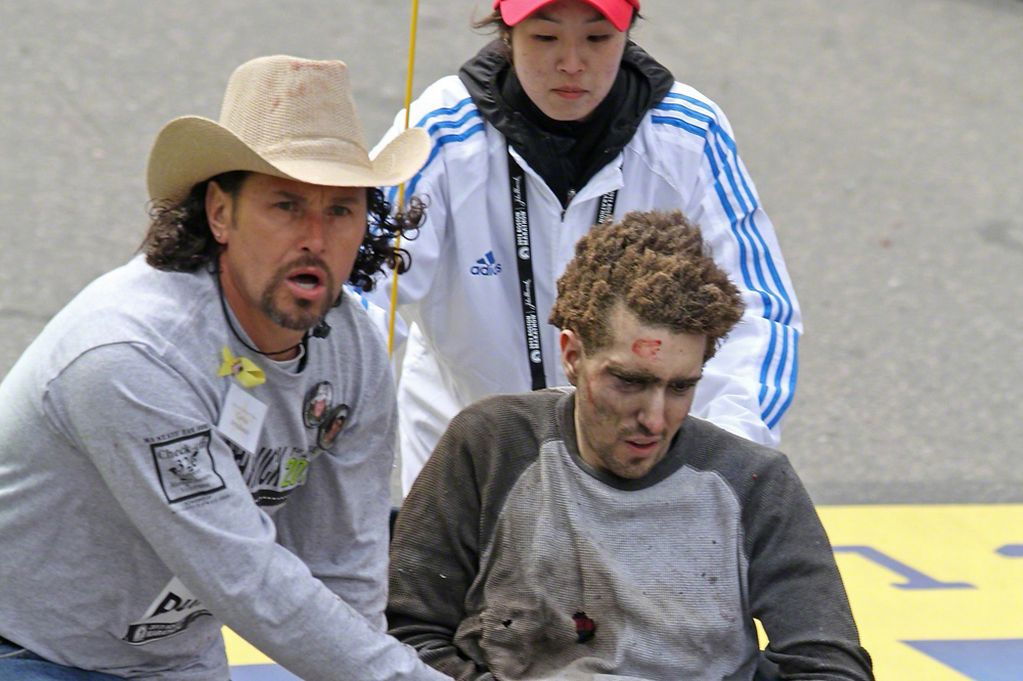Person: (66, 60, 411, 681), (481, 215, 811, 675), (466, 1, 766, 280)
